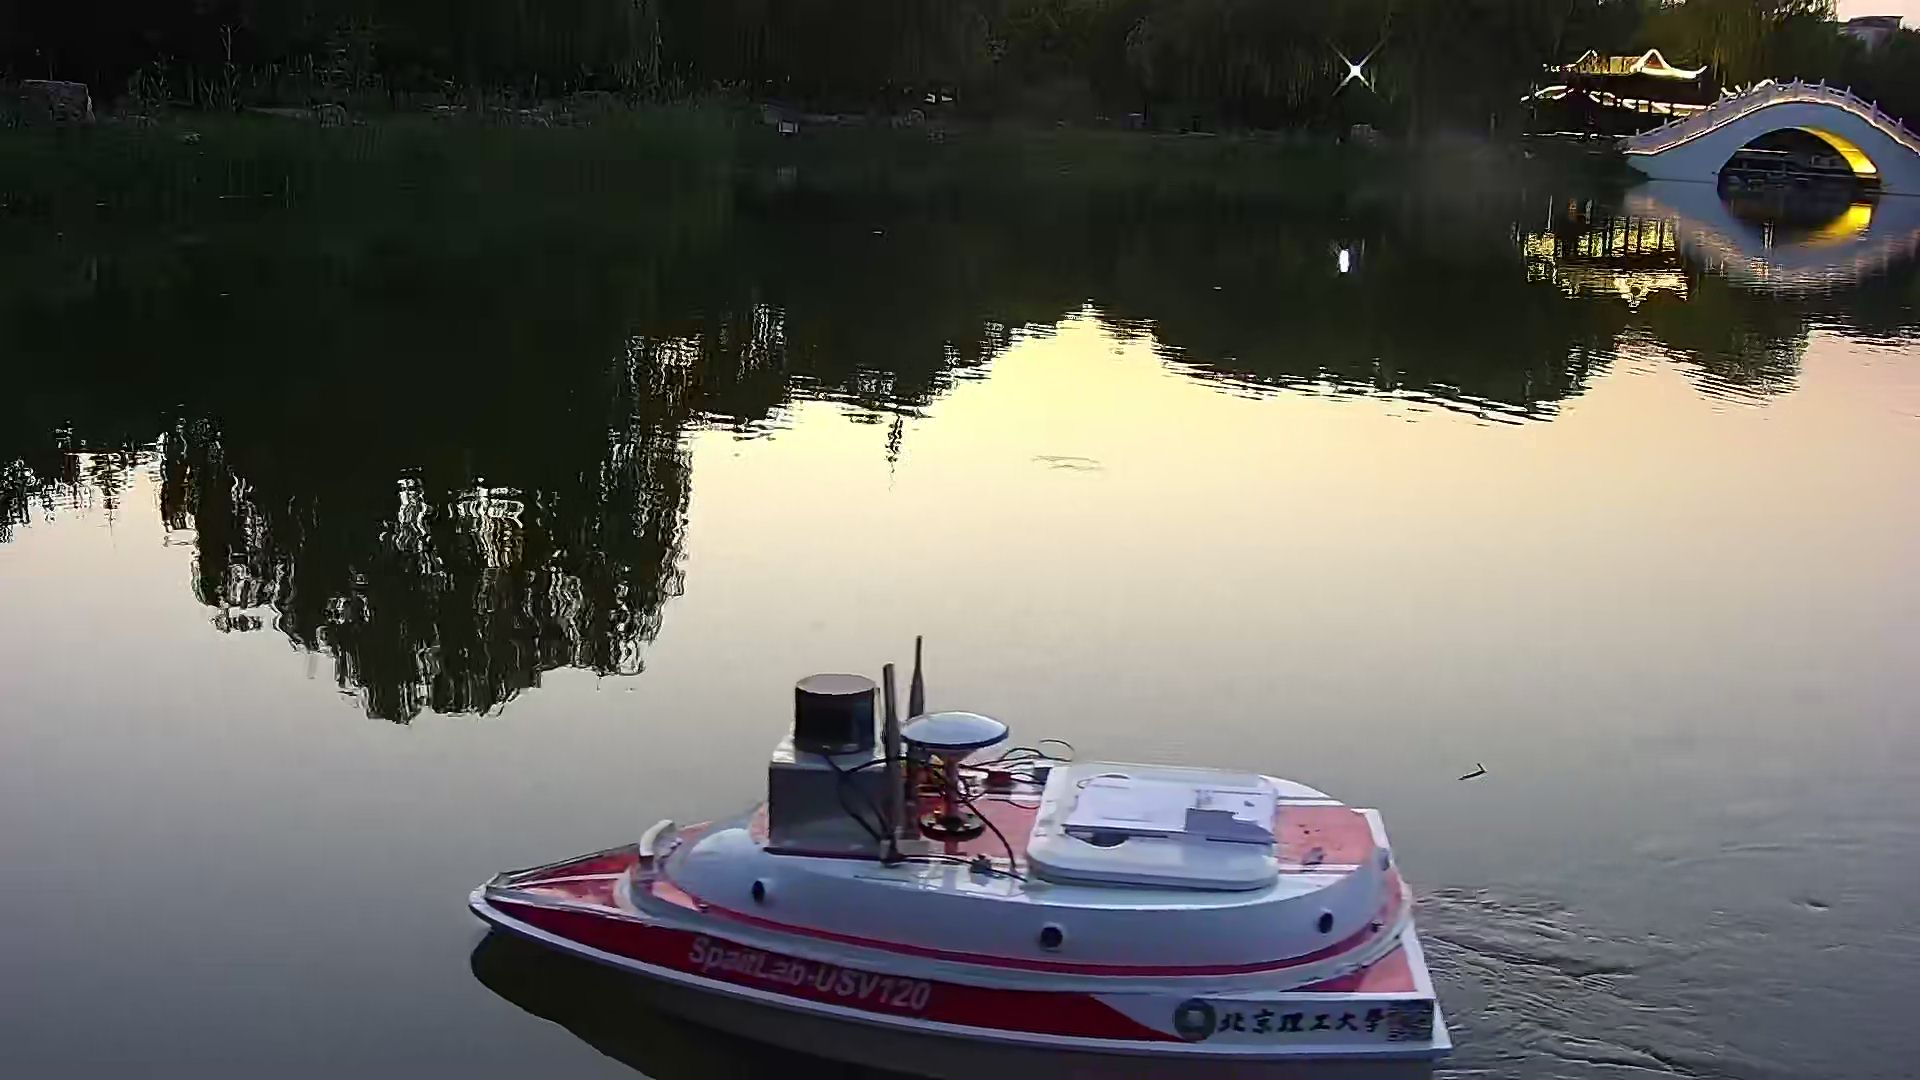boat: (455, 632, 1468, 1080)
bridge: (1631, 73, 1920, 189)
